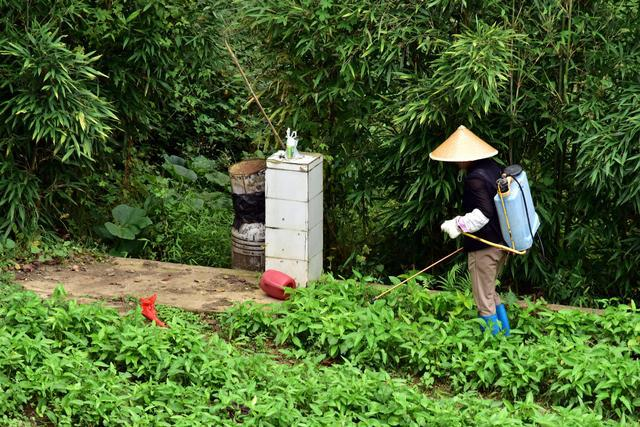berrl: (495, 167, 544, 254)
